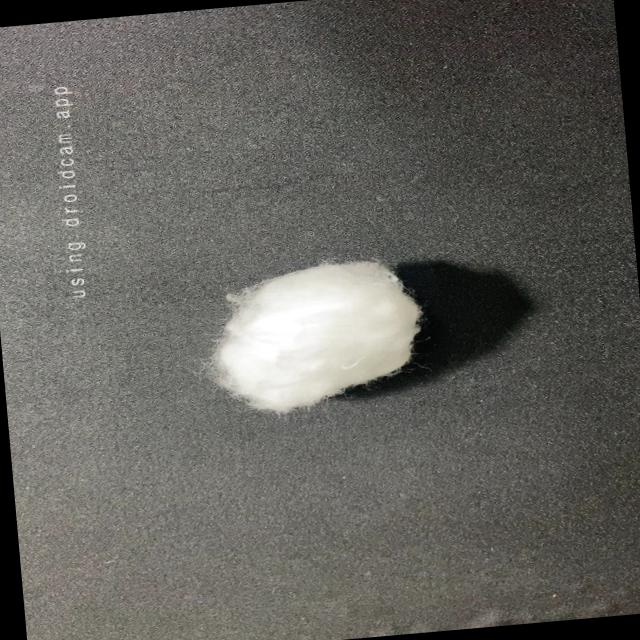cotton: (188, 248, 446, 428)
